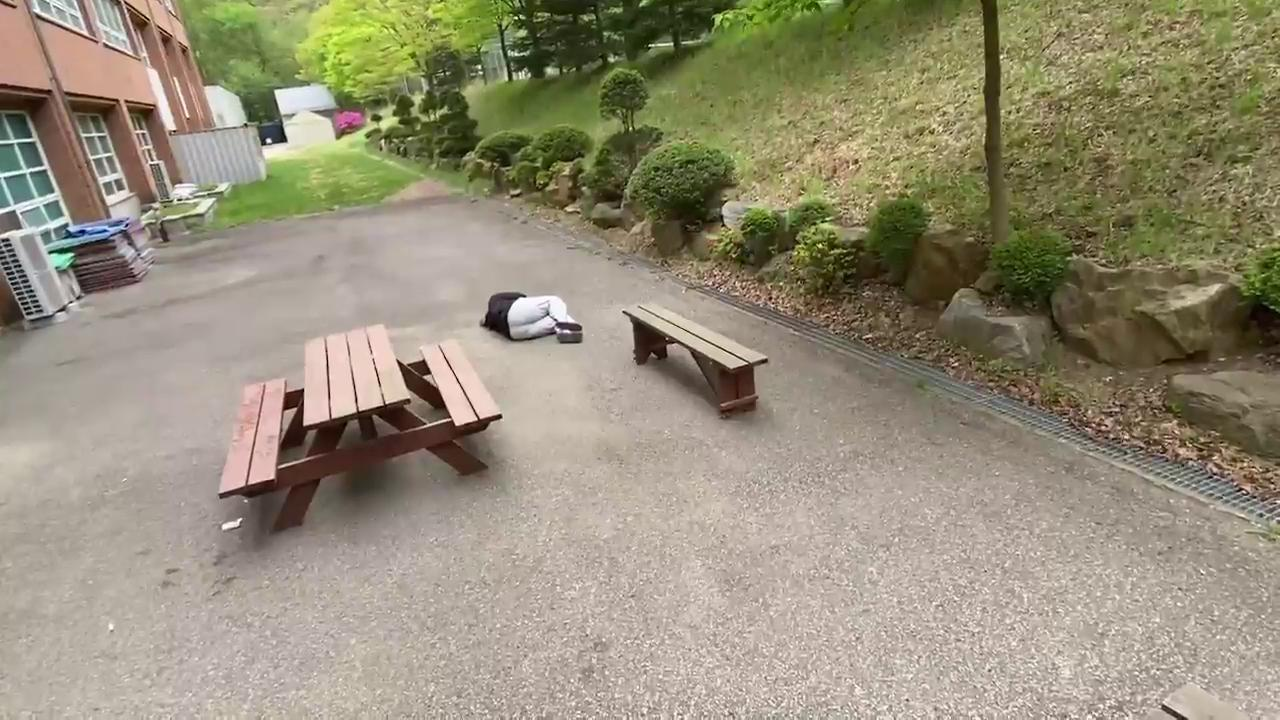faint: (480, 287, 583, 346)
